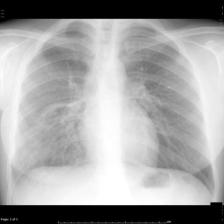tuberculosis: (14, 22, 218, 204)
